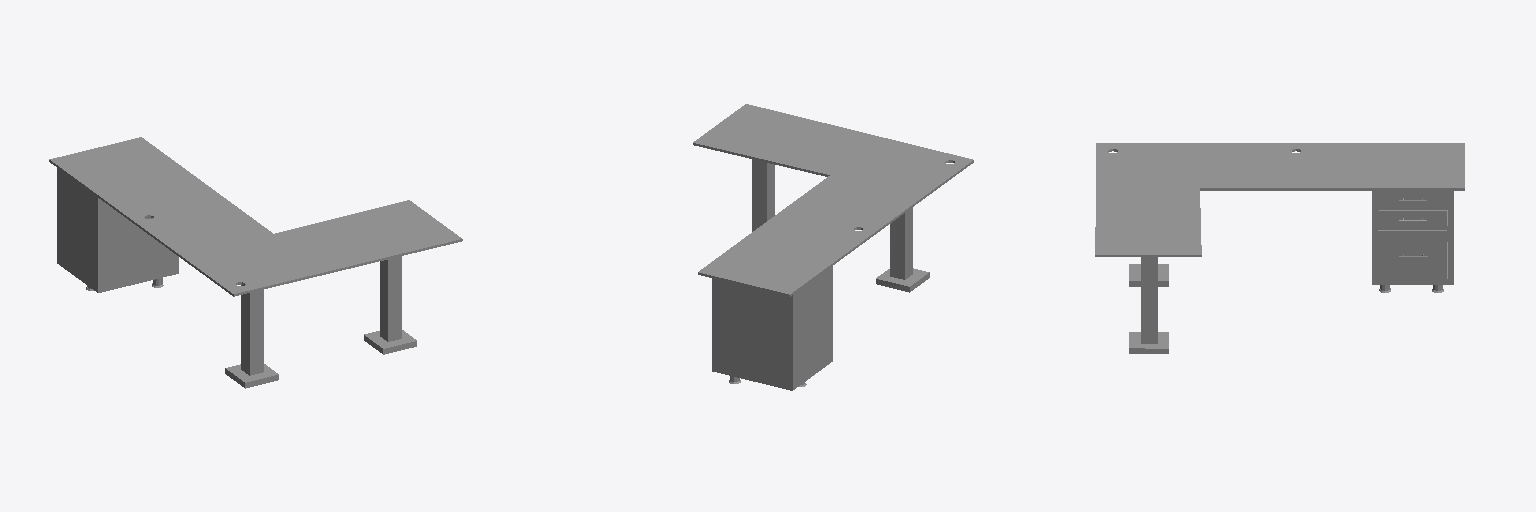
File: Desk.obj
3 renders of one model, left to right at view 1: azimuth 30°, elevation 25°; view 2: azimuth 150°, elevation 25°; view 3: azimuth 270°, elevation 25°, orthographic.
Visible parts, largest first — view 1: Desk, Drawer, Leg02, Leg01; view 2: Desk, Drawer, Leg02, Leg01; view 3: Desk, Drawer03_0, Leg01, Drawer, Drawer02, Drawer01, Leg02.
Boxes of the visible parts, x1=… form: Desk: x1=49, y1=137, x2=462, y2=296; Drawer: x1=57, y1=168, x2=178, y2=292; Leg02: x1=225, y1=285, x2=278, y2=388; Leg01: x1=364, y1=256, x2=416, y2=354; Desk: x1=693, y1=104, x2=973, y2=296; Drawer: x1=712, y1=266, x2=832, y2=390; Leg02: x1=876, y1=207, x2=929, y2=292; Leg01: x1=752, y1=159, x2=774, y2=231; Desk: x1=1095, y1=143, x2=1464, y2=256; Drawer03_0: x1=1378, y1=230, x2=1446, y2=278; Leg01: x1=1129, y1=257, x2=1168, y2=353; Drawer: x1=1372, y1=191, x2=1453, y2=284; Drawer02: x1=1378, y1=210, x2=1446, y2=226; Drawer01: x1=1378, y1=191, x2=1446, y2=206; Leg02: x1=1129, y1=264, x2=1168, y2=286.
Size of the model in its own units: 5.01 by 2.38 by 7.01.